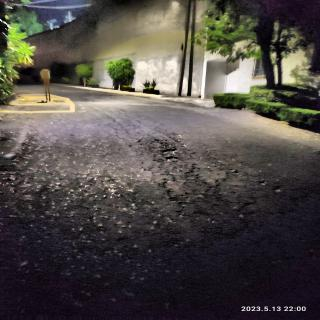pothole: (152, 126, 186, 170)
